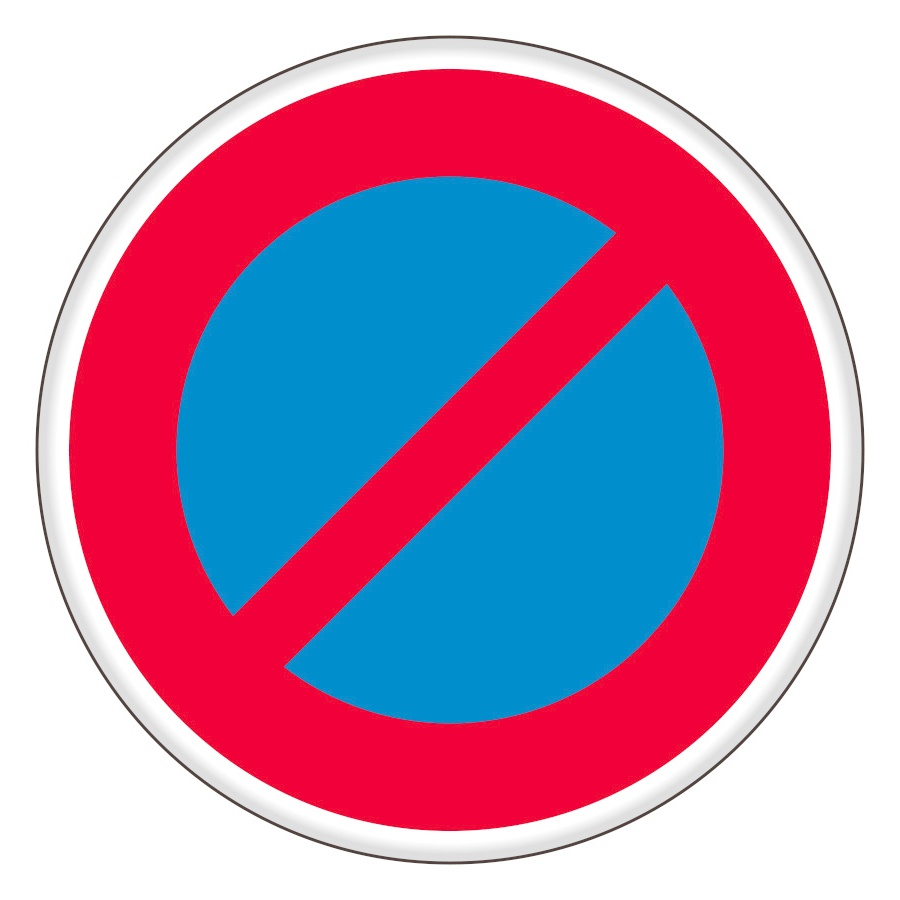Prohibition_sign: (29, 1, 880, 890)
